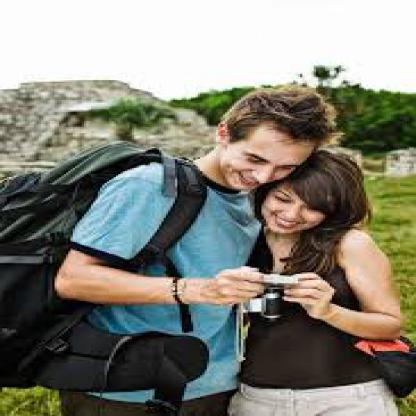morral: (2, 135, 205, 407)
